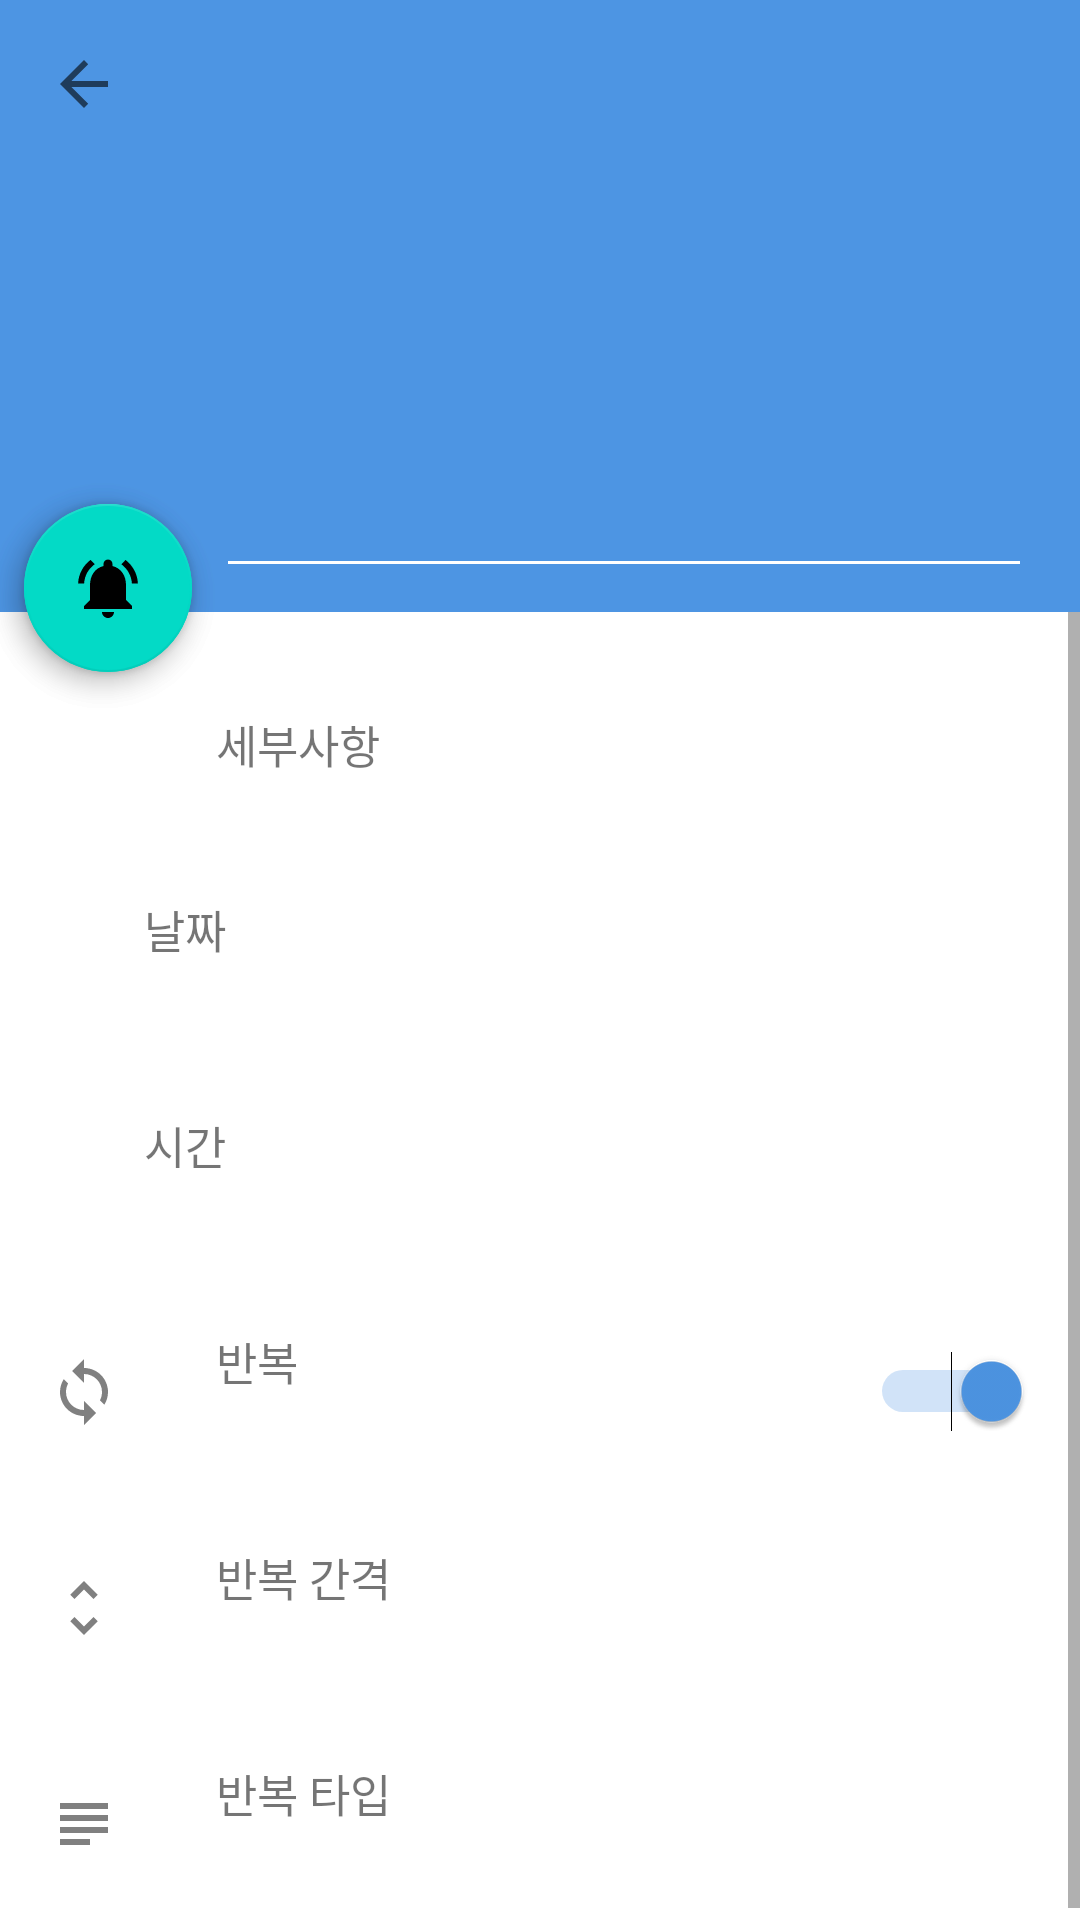

Locate icon controls on the screen. Image size 1080x1920, boxes as (x1, y1, x2, y2).
subject: (60, 1803, 108, 1845)
sync: (60, 1359, 108, 1425)
unfold more: (70, 1581, 98, 1635)
